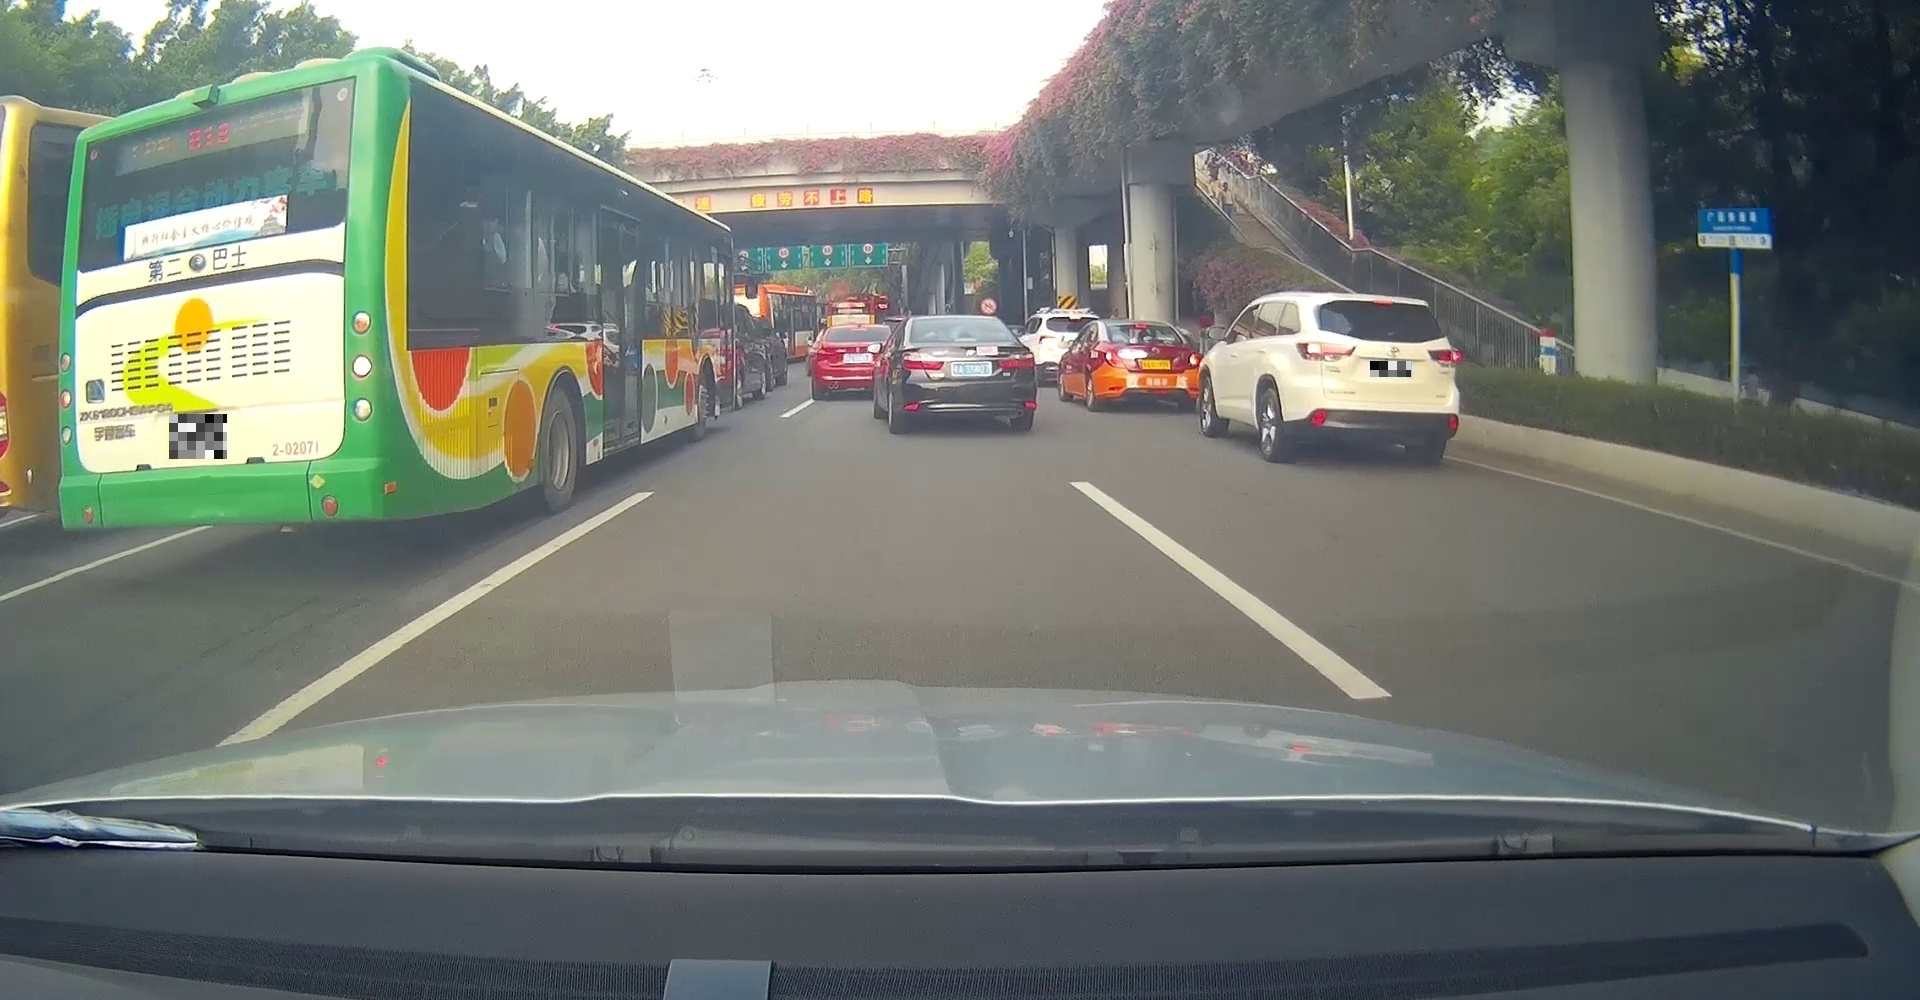L_light: (58, 353, 74, 445), (1295, 341, 1355, 362), (902, 352, 943, 371), (1105, 349, 1123, 365)
R_light: (349, 310, 375, 423), (998, 352, 1035, 369), (1429, 348, 1458, 365), (1187, 352, 1200, 365)
T_light: (185, 115, 229, 122), (1374, 299, 1392, 305), (952, 319, 973, 322), (1134, 324, 1147, 329)
day-brake: (1294, 294, 1460, 466), (1103, 321, 1201, 411)
day-no: (58, 55, 378, 574), (899, 316, 1036, 431)
plate_1: (169, 414, 227, 459)
plate_2: (1370, 360, 1411, 377)
